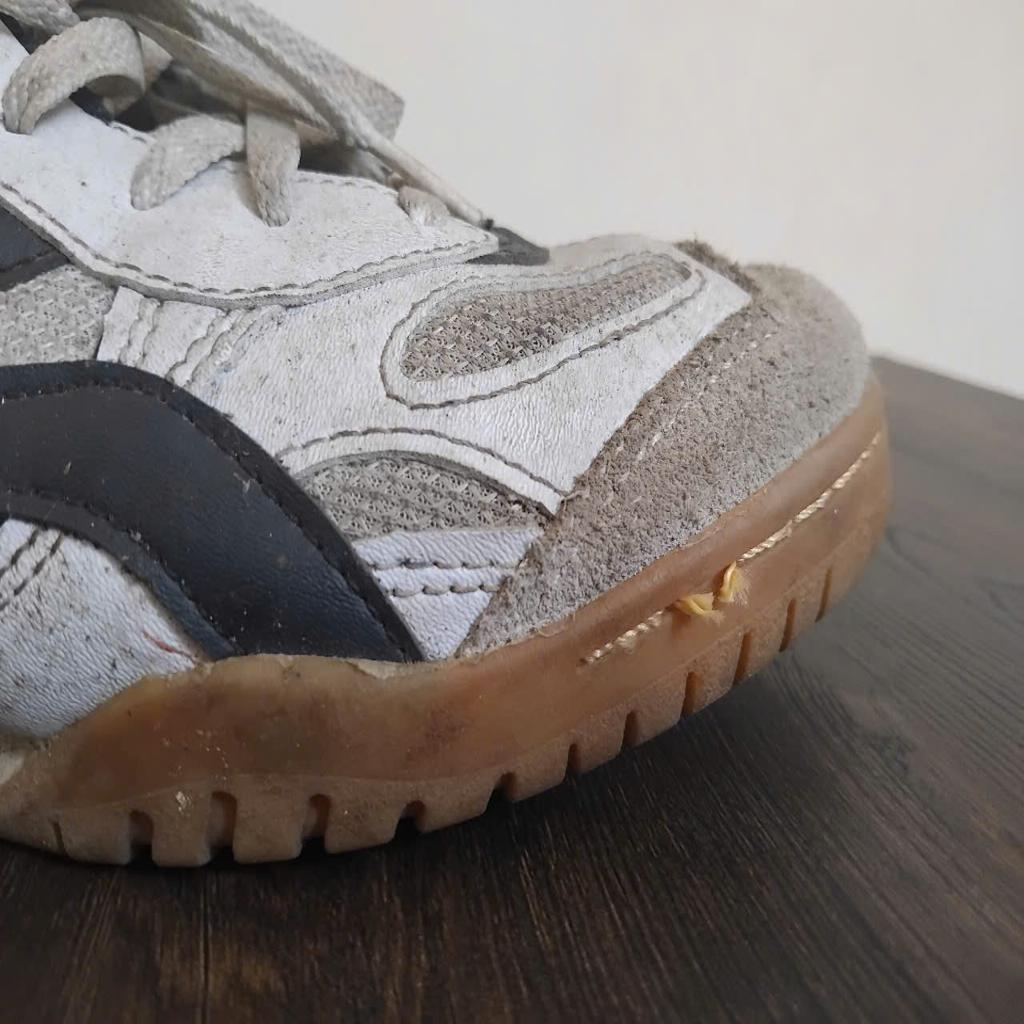broken: (671, 561, 756, 633)
